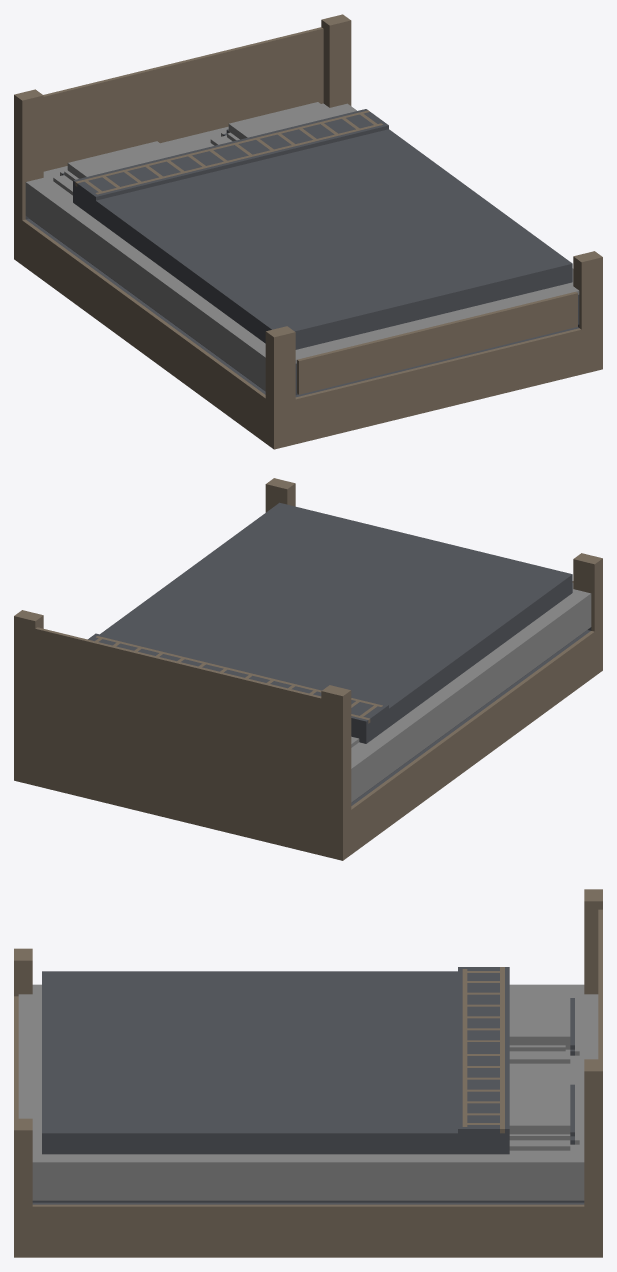
File: bed.obj
3 views of the same model, one above another, from view 1: azimuth 30°, elevation 25°; view 2: azimuth 150°, elevation 25°; view 3: azimuth 270°, elevation 25° (orthographic). The views are drawn at different scales.
Size of the model in its own units: 92 by 44 by 126.
1 material, 1 textured.
